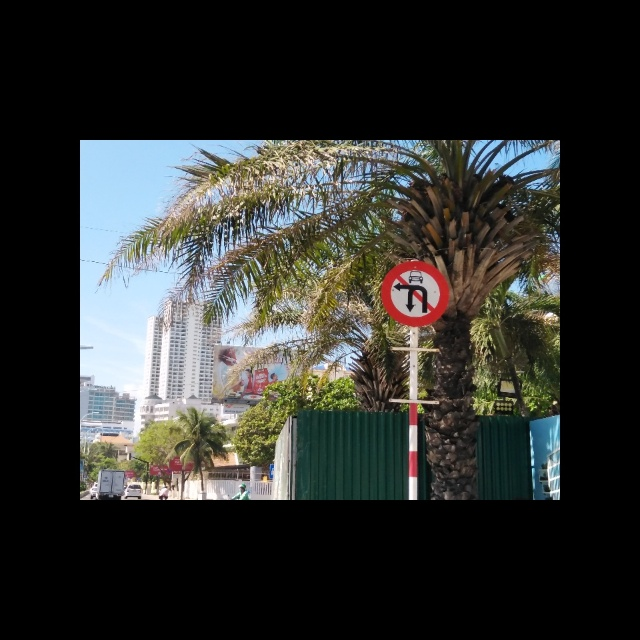Cấm xe ô tô quay đầu và rẽ trái: (379, 260, 451, 330)
